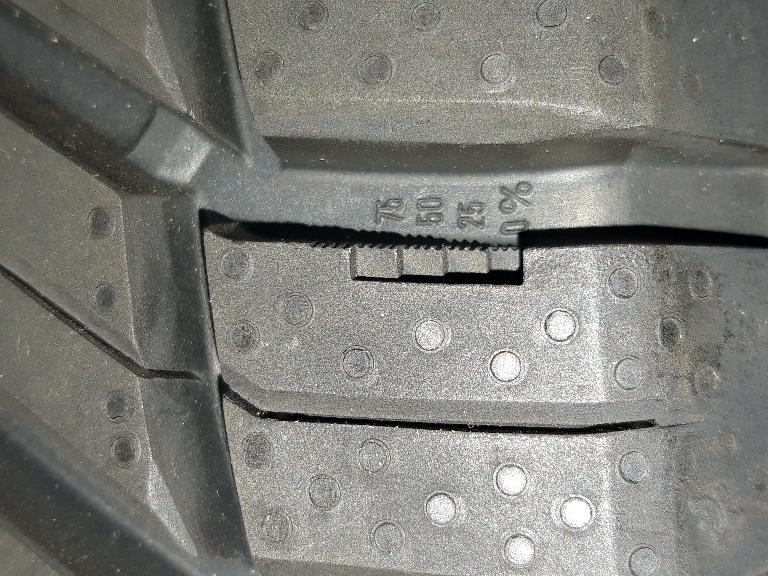temoin:100: (305, 223, 531, 294)
